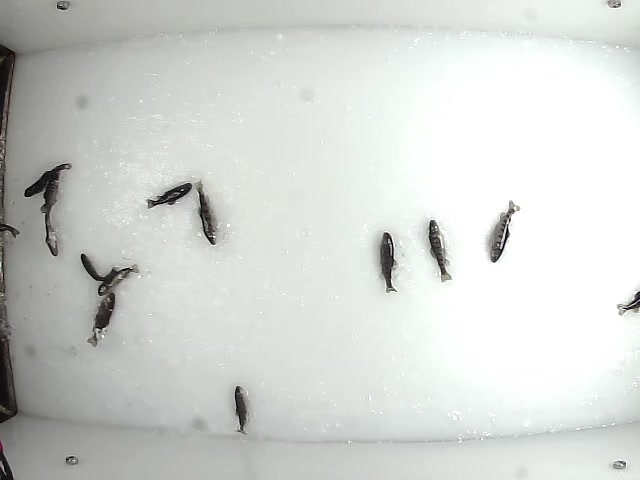fish: (486, 198, 521, 264), (21, 160, 75, 200), (425, 217, 455, 284), (83, 290, 116, 348), (190, 179, 219, 244), (145, 179, 195, 210), (96, 262, 141, 295), (378, 230, 399, 295), (79, 252, 119, 284), (36, 173, 62, 217), (41, 203, 61, 258), (232, 382, 250, 437)
